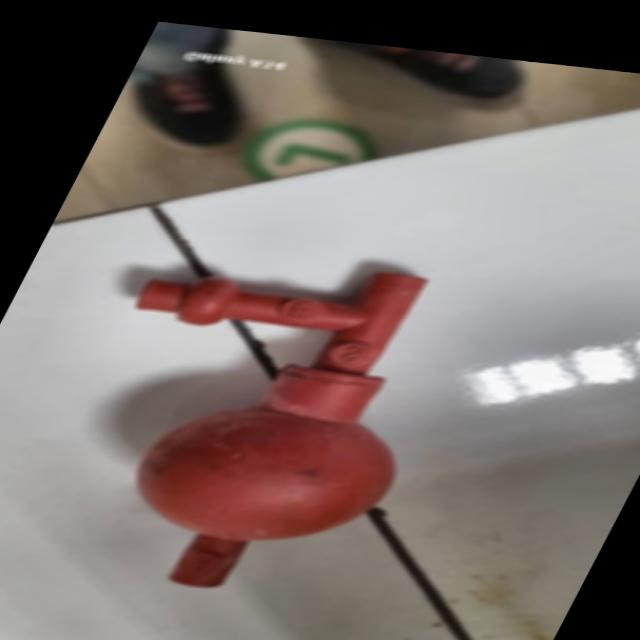Droppers: (0, 240, 564, 614)
